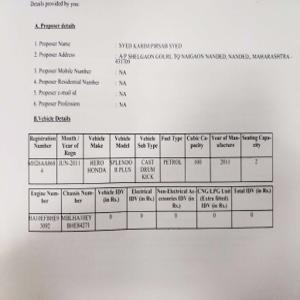table: (29, 131, 274, 182), (27, 186, 273, 228)
text: (36, 23, 291, 121)
